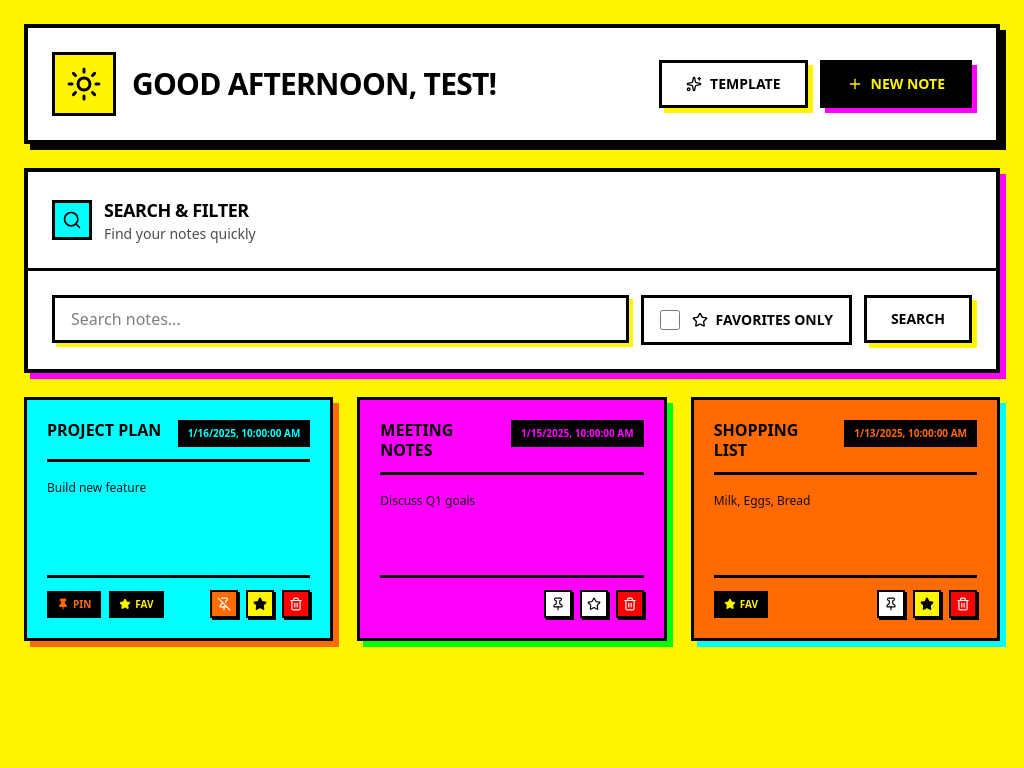
Test case: Dashboard - Functional Tests › Favorite Functionality › should display error message when favorite action fails
Check: the heading "Meeting Notes" is shown, box left=380, top=419, right=453, bottom=461
Click the button named "favorite note": (594, 604) left=580, top=590, right=608, bottom=618
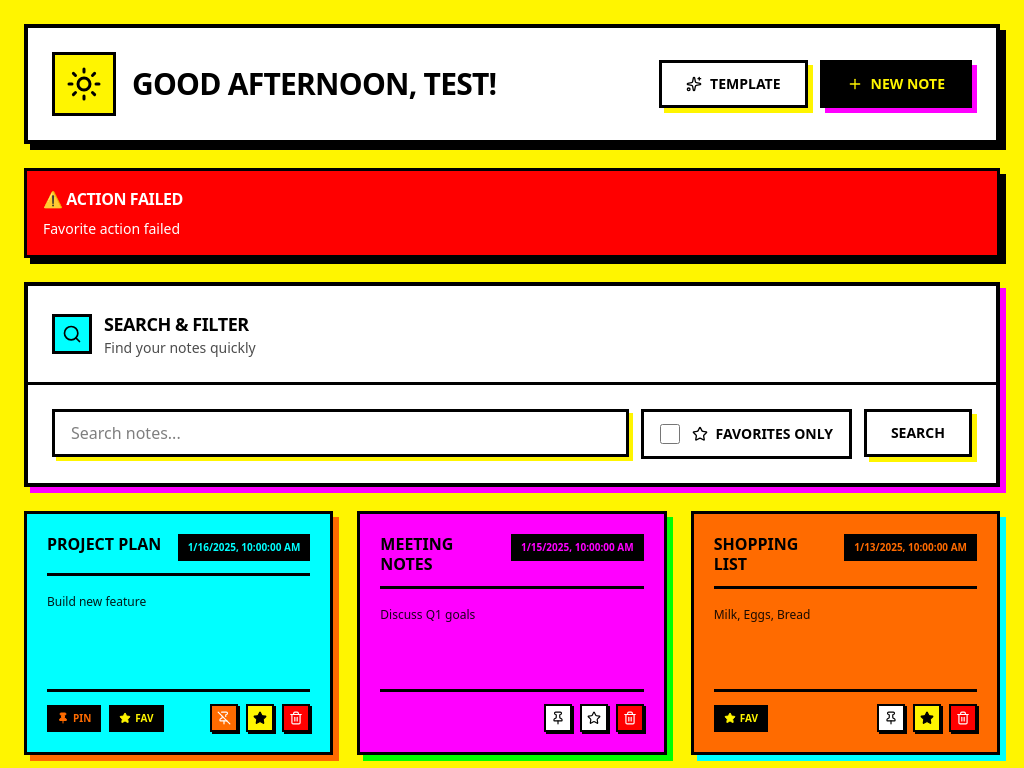
Check: the text "Favorite action failed" is shown, box left=43, top=219, right=180, bottom=238
